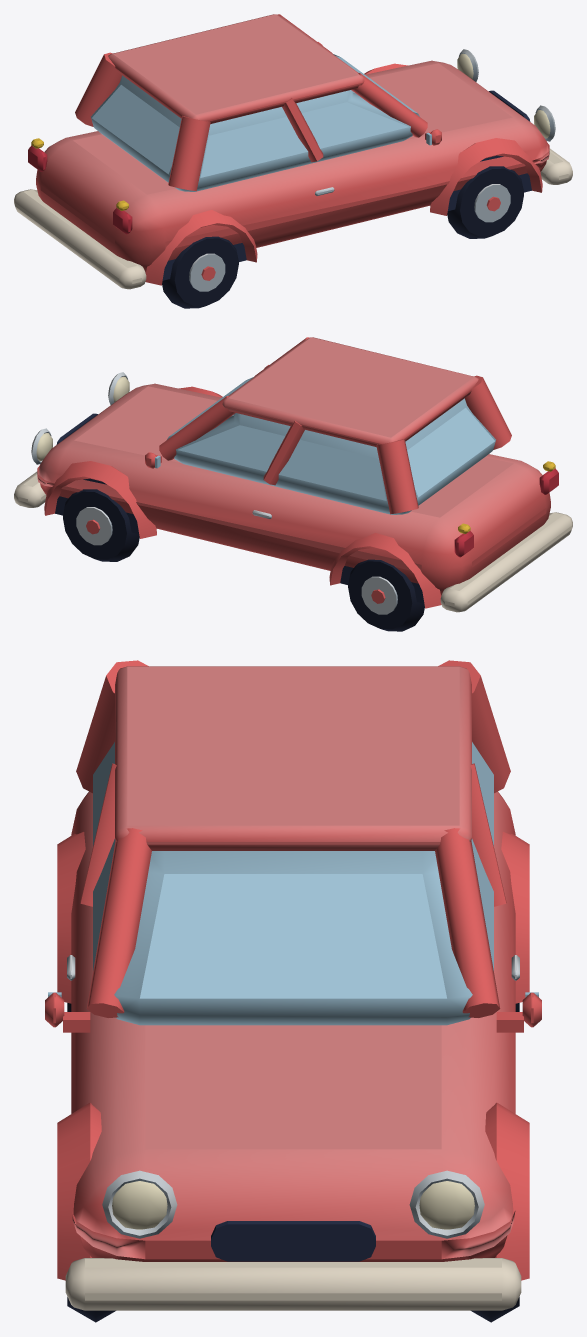
Rendered from car_a.glb.
3 renders of one model, top to bottom at view 1: azimuth 30°, elevation 25°; view 2: azimuth 150°, elevation 25°; view 3: azimuth 270°, elevation 25°, orthographic. The views are drawn at different scales.
Visible parts, largest first — view 1: CarA; view 2: CarA; view 3: CarA.
Boxes of the visible parts, left/top/right/bottom form: CarA: left=14, top=14, right=572, bottom=308; CarA: left=14, top=337, right=572, bottom=631; CarA: left=45, top=660, right=541, bottom=1322.
Size of the model in its own units: 3.81 by 1.5 by 1.81.
